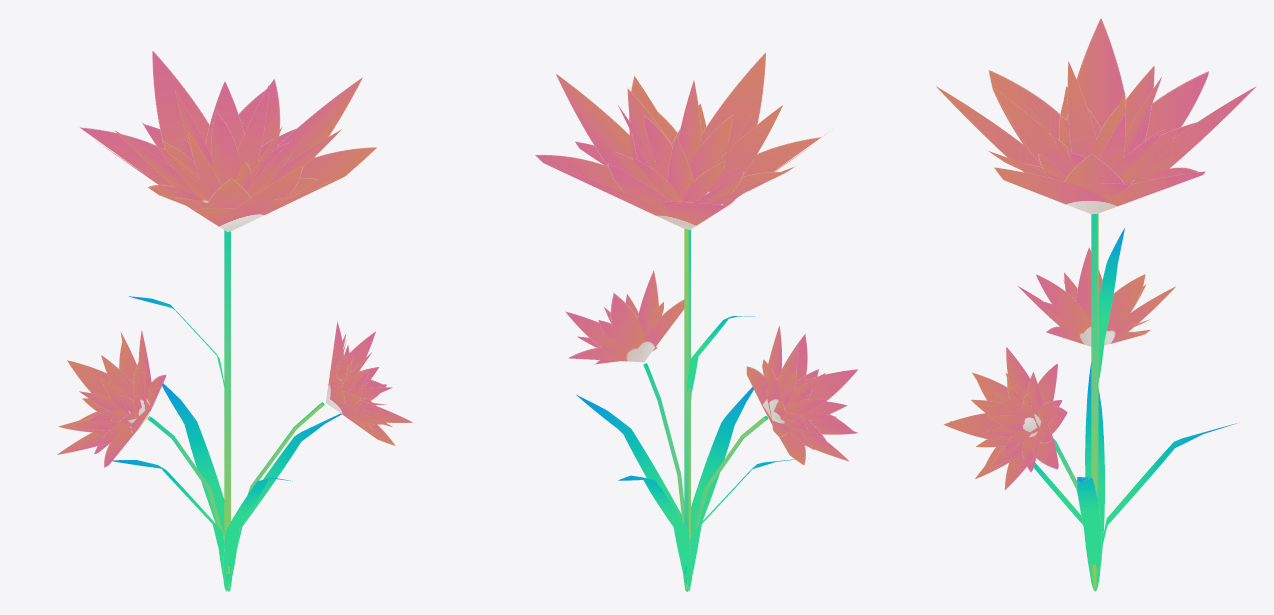
The model's file is Flowers_n02_02.fbx.
3 renders of one model, left to right at view 1: azimuth 30°, elevation 25°; view 2: azimuth 150°, elevation 25°; view 3: azimuth 270°, elevation 25°, orthographic. The views are drawn at different scales.
Parts seen in each view (by area): view 1: polySurface89; view 2: polySurface89; view 3: polySurface89.
Boxes of the visible parts, box(x1,y1,x2,y2) form: polySurface89: box(57, 51, 412, 591); polySurface89: box(535, 52, 858, 591); polySurface89: box(936, 18, 1256, 591).
Bounding box in the file's own units: 48.85 × 66.8 × 38.64.
Materials: 1 (1 with a texture image).
